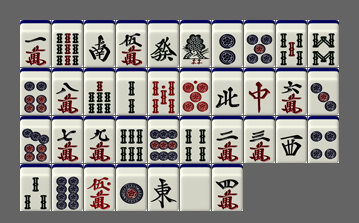0m: (84, 164, 115, 211)
0p: (180, 68, 211, 115)
0s: (148, 68, 179, 115)
1m: (20, 20, 51, 67)
1p: (116, 164, 147, 211)
1s: (180, 20, 211, 67)
1z: (148, 164, 179, 211)
2m: (212, 116, 243, 163)
2p: (212, 20, 243, 67)
2s: (116, 68, 147, 115)
2z: (84, 20, 115, 67)
3m: (244, 116, 275, 163)
3p: (308, 68, 339, 115)
3s: (20, 164, 51, 211)
3z: (276, 116, 307, 163)
4m: (212, 164, 243, 211)
4p: (308, 116, 339, 163)
4s: (180, 116, 211, 163)
4z: (212, 68, 243, 115)
5m: (116, 20, 147, 67)
5p: (244, 20, 275, 67)
5s: (276, 20, 307, 67)
5z: (180, 164, 211, 211)
6m: (276, 68, 307, 115)
6p: (20, 68, 51, 115)
6s: (116, 116, 147, 163)
6z: (148, 20, 179, 67)
7m: (52, 116, 83, 163)
7p: (20, 116, 51, 163)
7s: (84, 68, 115, 115)
7z: (244, 68, 275, 115)
8m: (52, 68, 83, 115)
8p: (52, 164, 83, 211)
8s: (308, 20, 339, 67)
9m: (84, 116, 115, 163)
9p: (148, 116, 179, 163)
9s: (52, 20, 83, 67)
